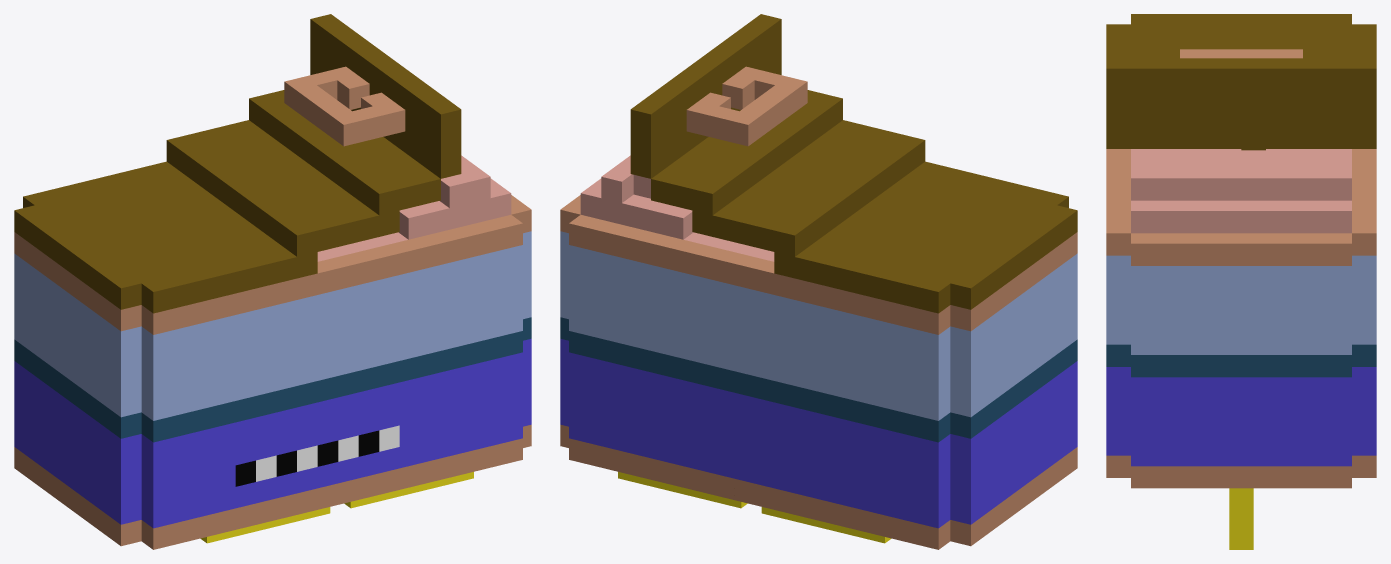
File: cannedham.glb
3 renders of one model, left to right at view 1: azimuth 30°, elevation 25°; view 2: azimuth 150°, elevation 25°; view 3: azimuth 270°, elevation 25°, orthographic. The views are drawn at different scales.
Visible parts, largest first — view 1: base, mouth, glasses; view 2: base, glasses; view 3: base, glasses.
Part boxes in pixels (left/top/right/bottom): base: left=14, top=14, right=531, bottom=549; mouth: left=235, top=425, right=399, bottom=486; glasses: left=200, top=472, right=473, bottom=543; base: left=560, top=14, right=1077, bottom=549; glasses: left=618, top=472, right=891, bottom=543; base: left=1106, top=14, right=1376, bottom=488; glasses: left=1229, top=488, right=1253, bottom=549.
Size of the model in its own units: 20 by 20 by 11.
Materials: 12 (12 with a texture image).
